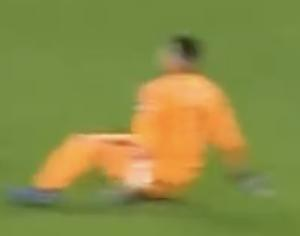goalkeeper: (6, 17, 300, 236)
